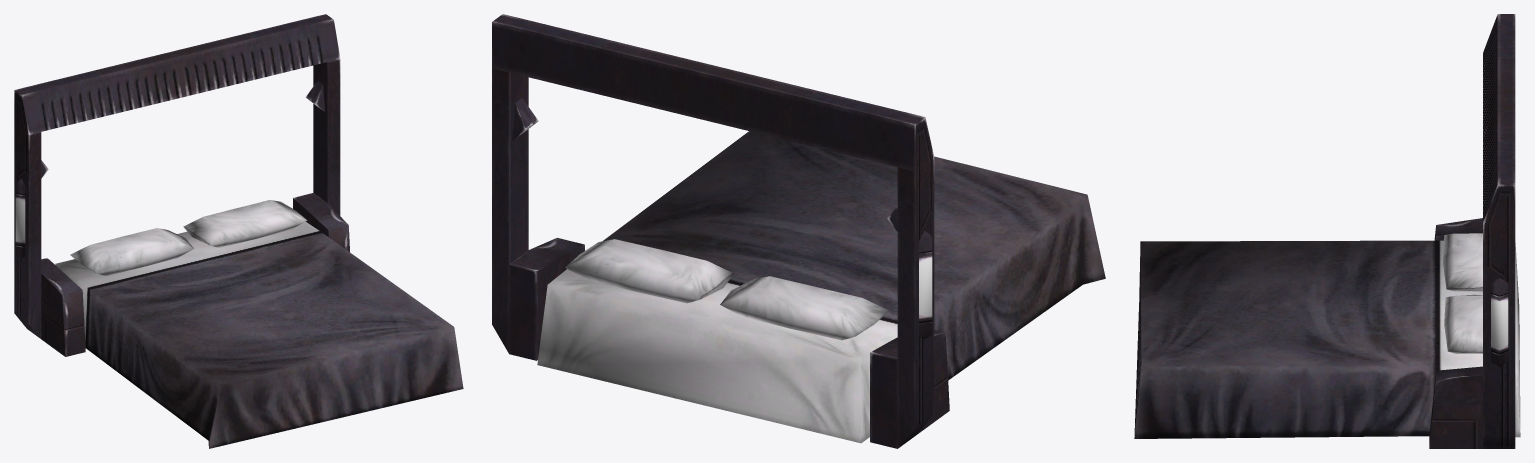
The model's file is frn_all_bed_lg_s1_l1.fbx.
3 views of the same model, side by side, from view 1: azimuth 30°, elevation 25°; view 2: azimuth 150°, elevation 25°; view 3: azimuth 270°, elevation 25° (orthographic). The views are drawn at different scales.
Parts seen in each view (by area): view 1: mesh_node; view 2: mesh_node; view 3: mesh_node.
Boxes of the visible parts, box(x1,y1,x2,y2) form: mesh_node: box(14, 14, 463, 448); mesh_node: box(492, 14, 1105, 448); mesh_node: box(1134, 14, 1520, 448).
Size of the model in its own units: 2.15 by 1.54 by 1.98.
